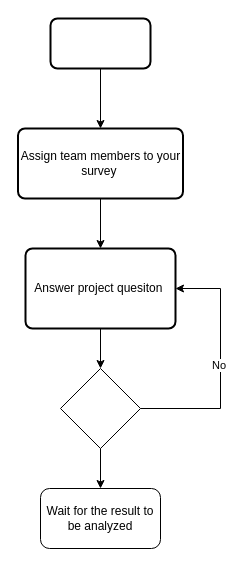
Image size: 246x566. Some labels were removed from this diagram. The centre of each missing label's shape, as x and y in pixels:
"Finish == true" belongs at (x=100, y=408).
"Product manager" belongs at (x=100, y=43).
